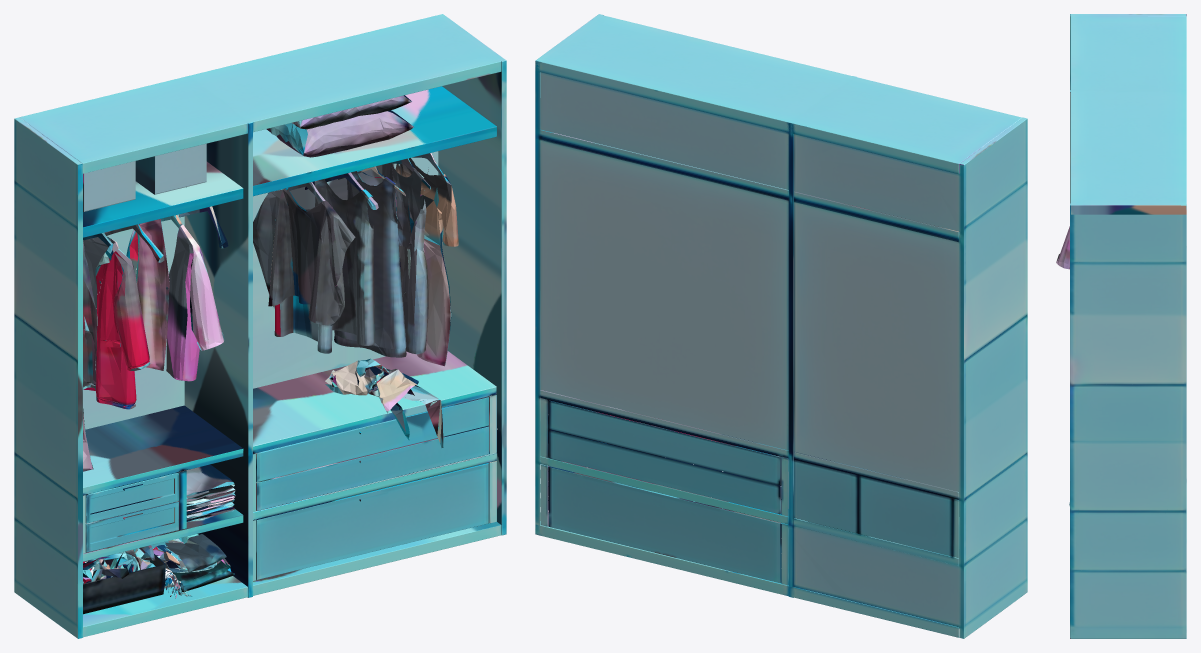
File: edited_mesh.glb
3 renders of one model, left to right at view 1: azimuth 30°, elevation 25°; view 2: azimuth 150°, elevation 25°; view 3: azimuth 270°, elevation 25°, orthographic. The views are drawn at different scales.
Visible parts, largest first — view 1: solid_001_wire; view 2: solid_001_wire; view 3: solid_001_wire.
Boxes of the visible parts, x1,y1,x2,y2 form: solid_001_wire: [14, 14, 506, 638]; solid_001_wire: [535, 14, 1027, 638]; solid_001_wire: [1056, 14, 1186, 638].
Size of the model in its own units: 1.28 by 1.36 by 0.3697.
Materials: 1 (1 with a texture image).
